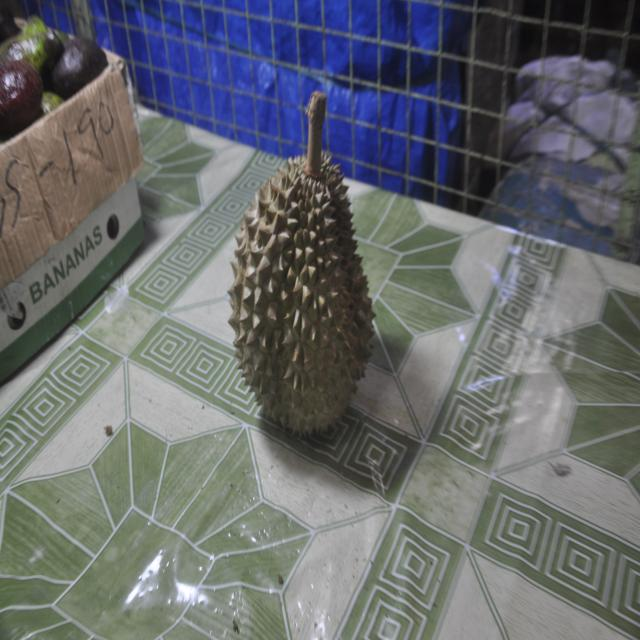mature: (229, 92, 374, 435)
